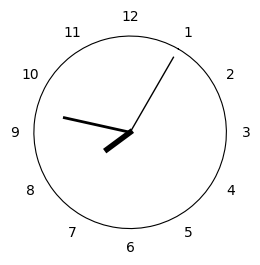12: (122, 10, 139, 22)
circle: (34, 36, 227, 228)
hours: (104, 129, 134, 153)
minutes: (63, 116, 128, 132)
seconds: (132, 57, 174, 129)
